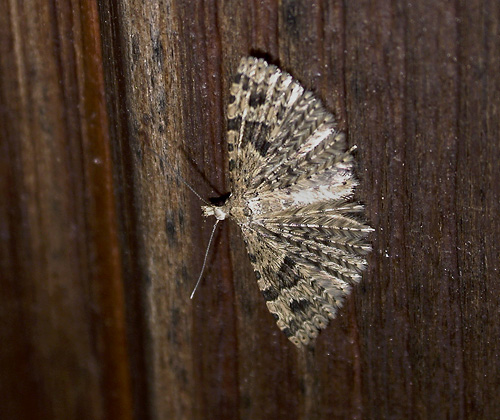Alucitidae: (150, 44, 381, 352)
moth: (152, 46, 383, 354)
